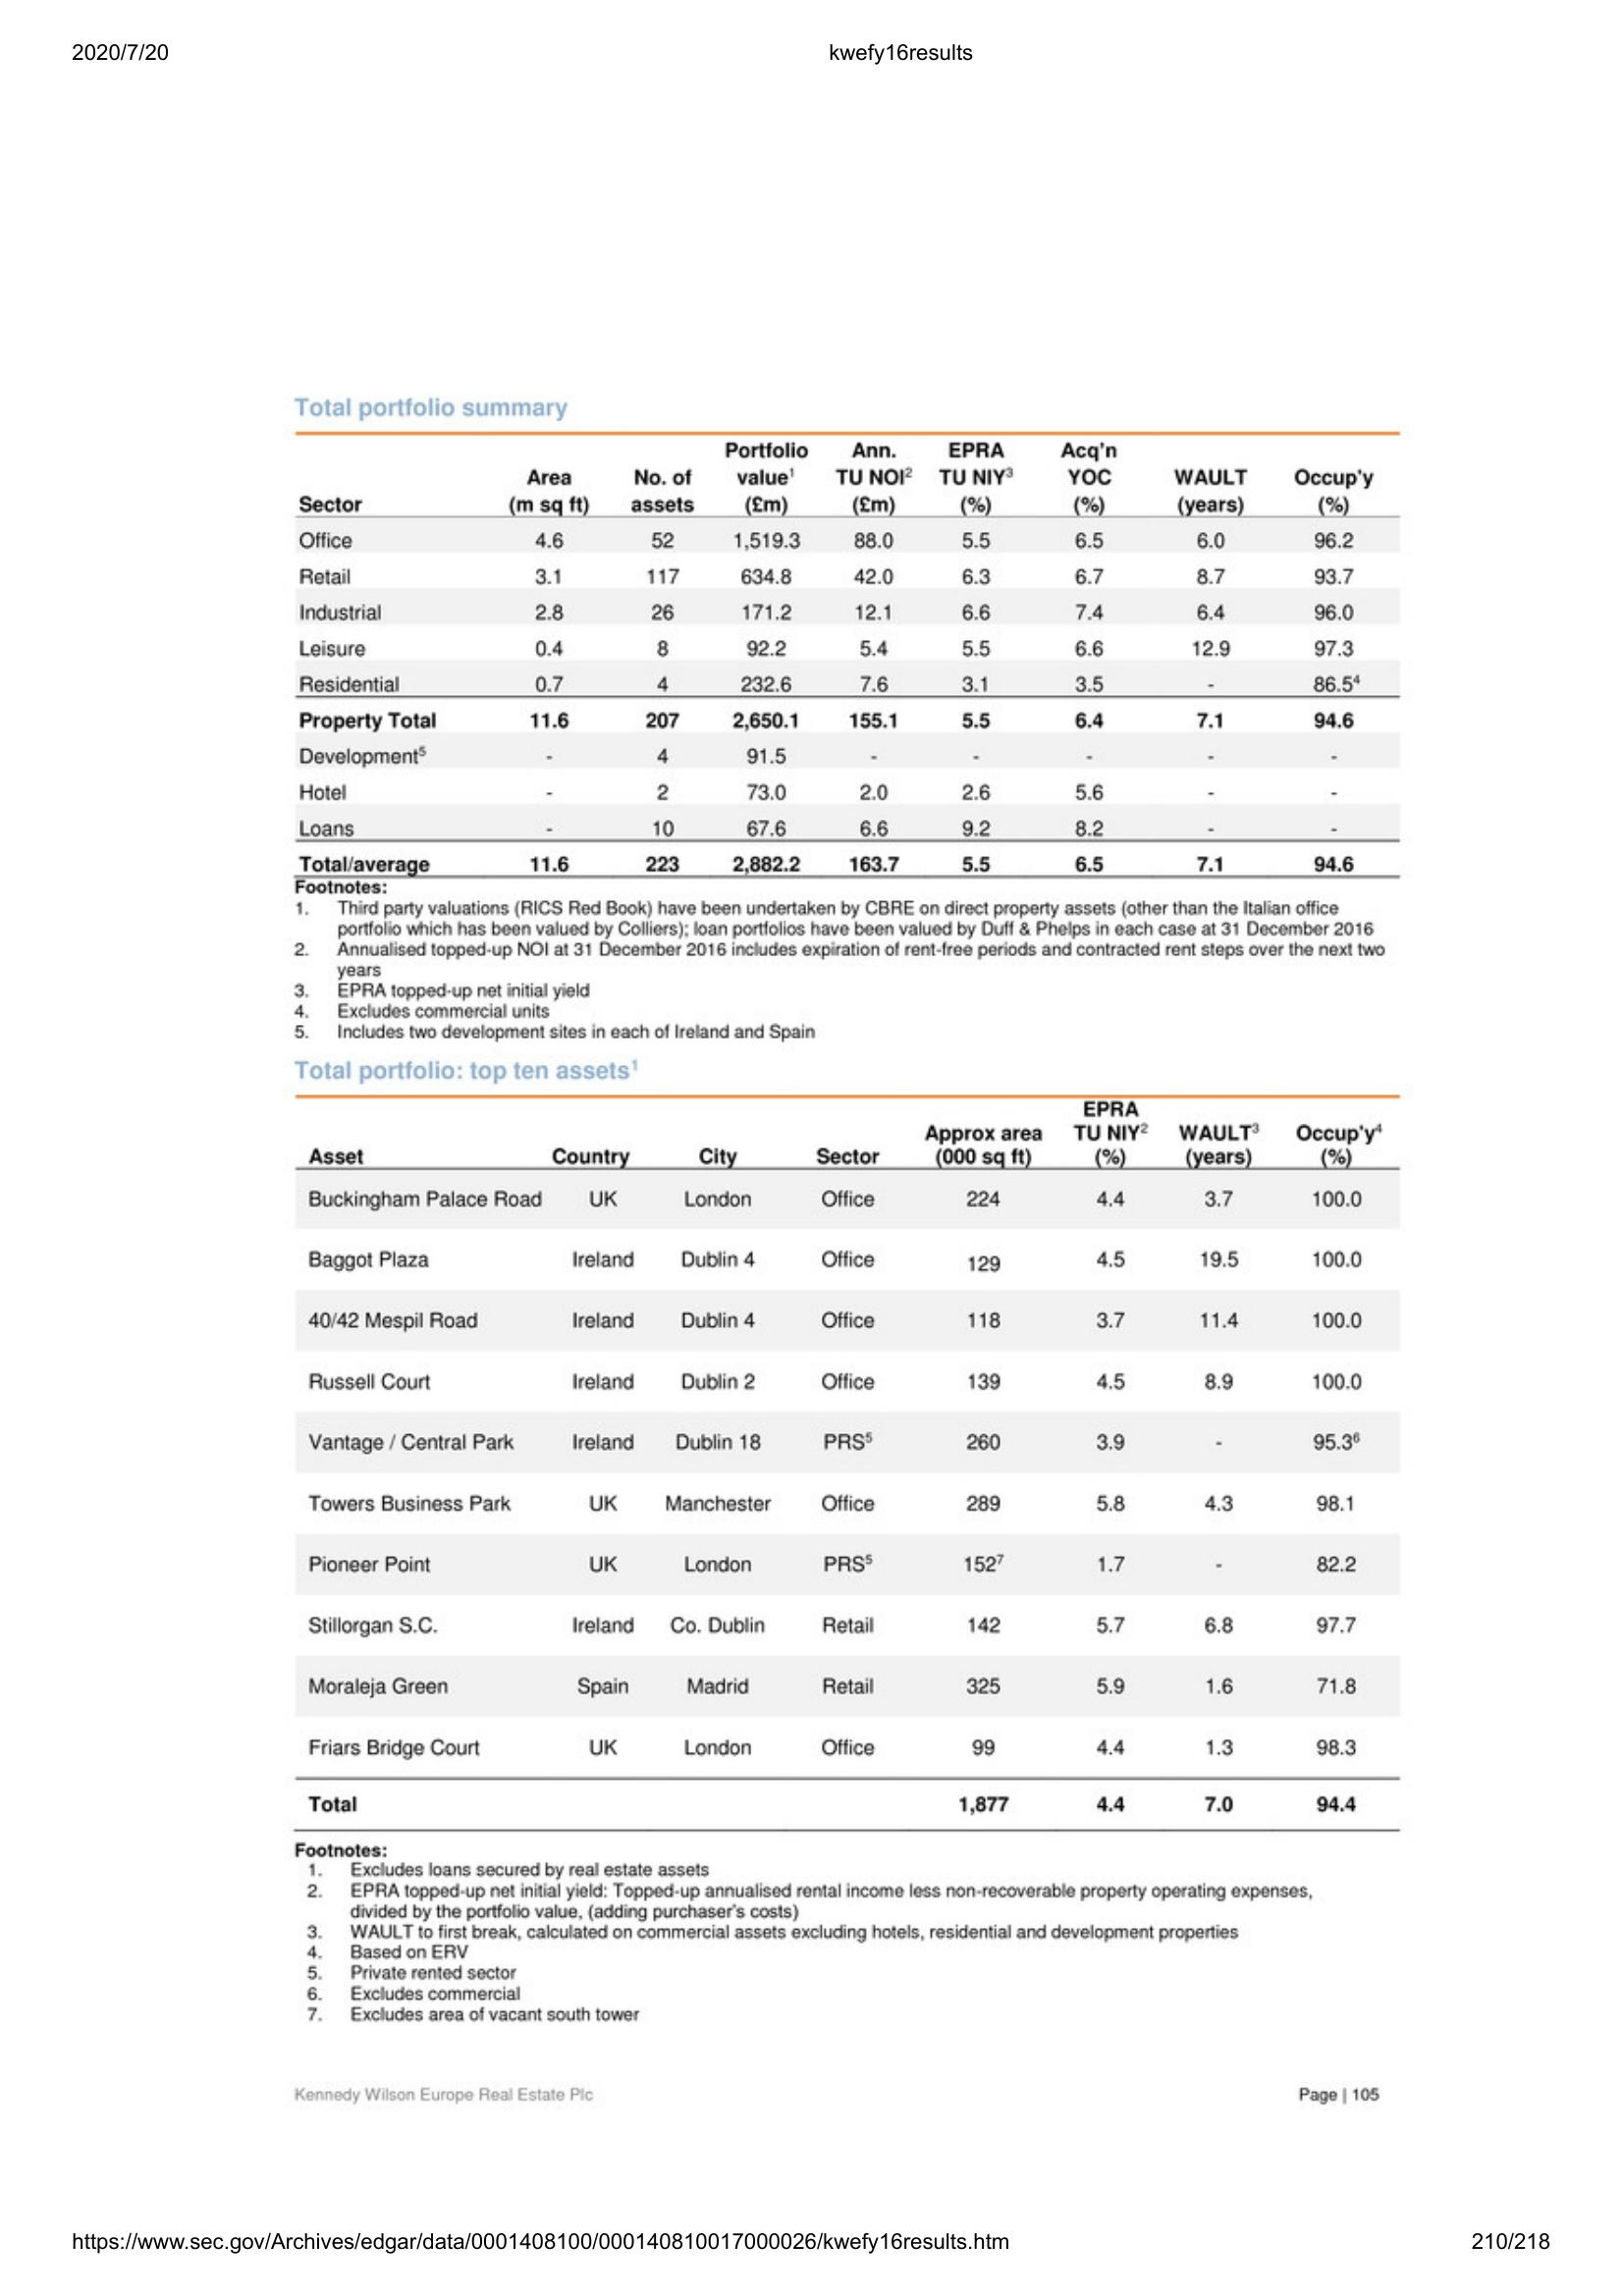table: (290, 1088, 1410, 1841), (283, 425, 1409, 892)
